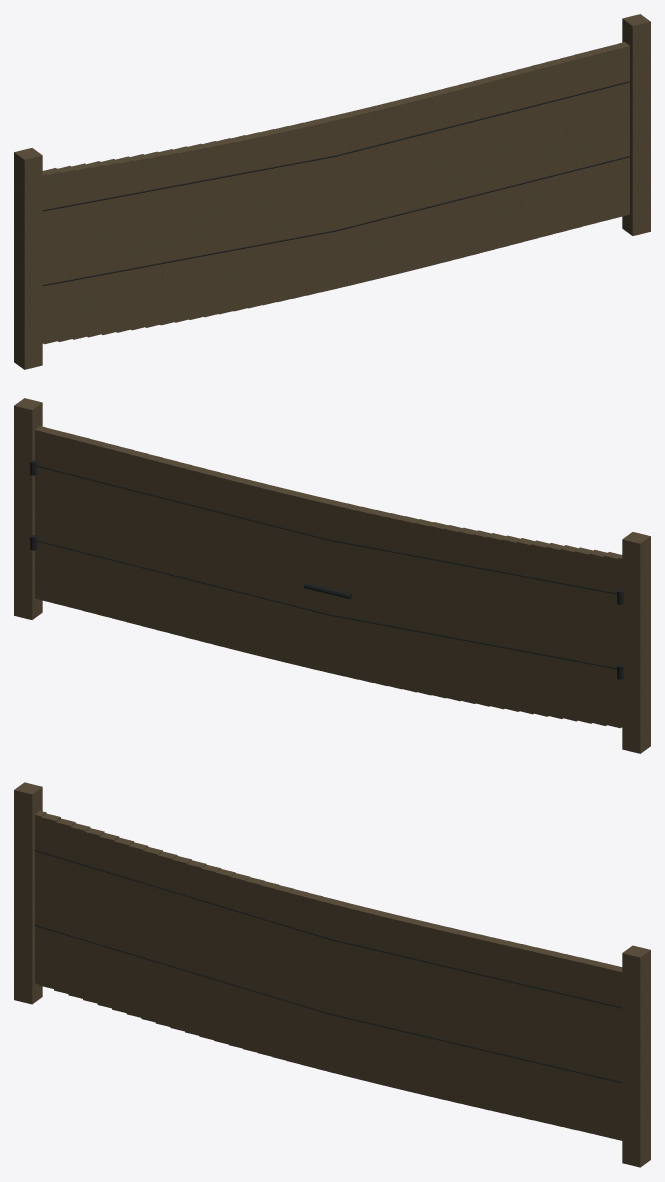
Rendered from level_camp_boundary_gate.glb.
The picture shows the model from 3 angles, top to bottom: view 1: azimuth 30°, elevation 25°; view 2: azimuth 150°, elevation 25°; view 3: azimuth 330°, elevation 25°; orthographic projection.
Parts seen in each view (by area): view 1: level_camp_boundary_gate; view 2: level_camp_boundary_gate; view 3: level_camp_boundary_gate.
Part boxes in pixels (box(x1,y1,x2,y2)): level_camp_boundary_gate: box(14, 14, 650, 369); level_camp_boundary_gate: box(14, 398, 650, 753); level_camp_boundary_gate: box(14, 782, 650, 1167).
Size of the model in its own units: 8.24 by 2.82 by 0.28.
Materials: 2 (2 with a texture image).
